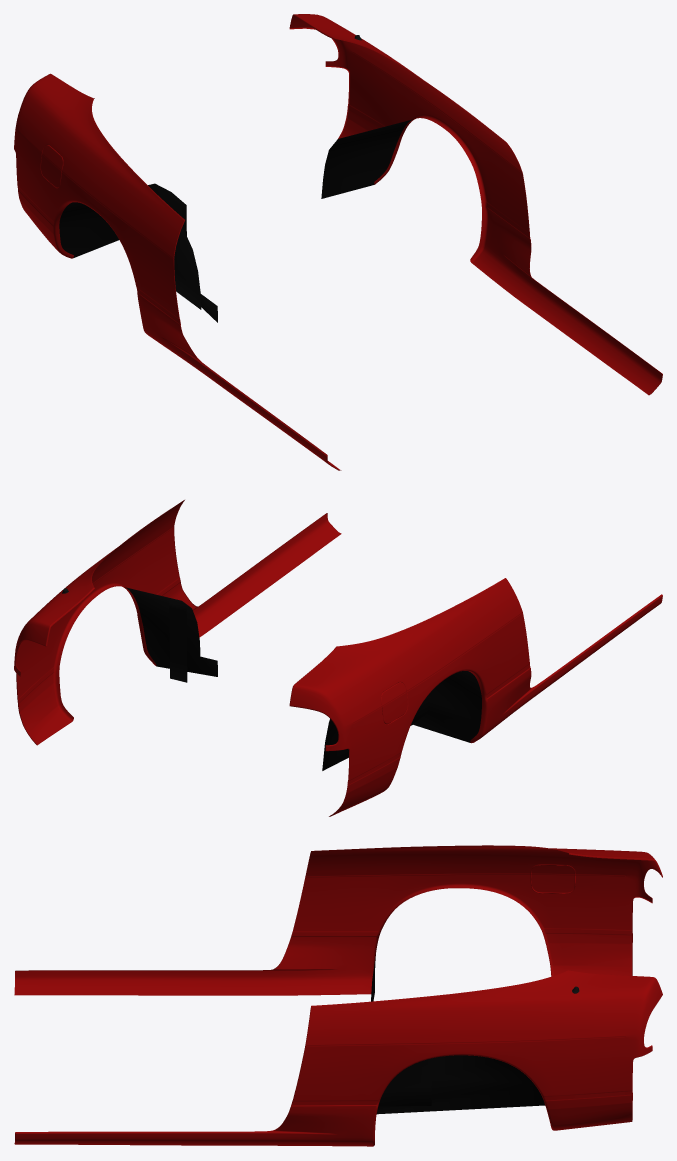
The model's file is rearfenders_oem.glb.
The picture shows the model from 3 angles, top to bottom: view 1: azimuth 30°, elevation 25°; view 2: azimuth 150°, elevation 25°; view 3: azimuth 270°, elevation 25°; orthographic projection.
Parts seen in each view (by area): view 1: Fenders, Undercarriage; view 2: Fenders, Undercarriage; view 3: Fenders, Undercarriage.
Part boxes in pixels (bbox=[...]): Fenders: bbox=[14, 14, 662, 470]; Undercarriage: bbox=[59, 119, 413, 322]; Fenders: bbox=[14, 500, 662, 816]; Undercarriage: bbox=[125, 587, 481, 770]; Fenders: bbox=[14, 845, 662, 1146]; Undercarriage: bbox=[371, 955, 545, 1114].
Bounding box in the file's own units: 1.7 × 0.7374 × 2.73.
